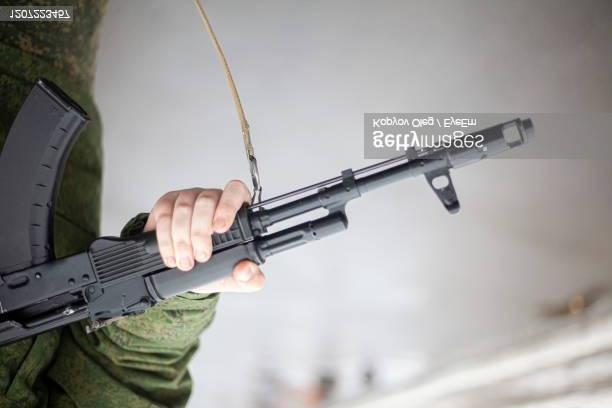larga: (0, 77, 538, 349)
